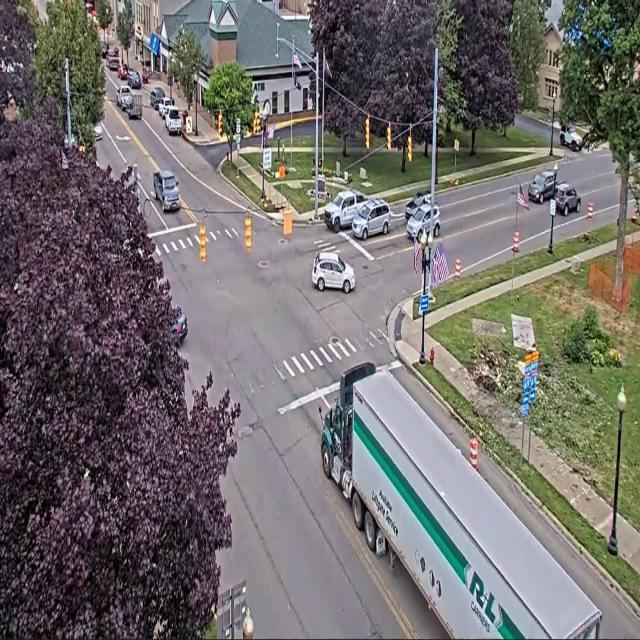car: (324, 190, 366, 232), (312, 252, 355, 293), (352, 199, 391, 240), (407, 201, 440, 239), (154, 170, 180, 212), (528, 171, 555, 204), (556, 184, 580, 215), (405, 192, 430, 220), (171, 307, 187, 346), (560, 125, 583, 151), (165, 107, 181, 135), (149, 87, 165, 111), (158, 96, 173, 119), (127, 71, 141, 89), (107, 56, 119, 71), (141, 66, 151, 84), (94, 123, 103, 141), (118, 64, 128, 79), (101, 41, 108, 59), (107, 47, 119, 57)
traffic signal: (245, 212, 251, 252), (200, 225, 206, 262), (253, 112, 260, 135), (365, 117, 369, 149), (217, 112, 222, 135), (387, 123, 391, 150), (408, 136, 412, 161), (79, 144, 85, 154)
truck: (319, 363, 601, 639), (125, 92, 143, 119), (116, 85, 131, 111)
